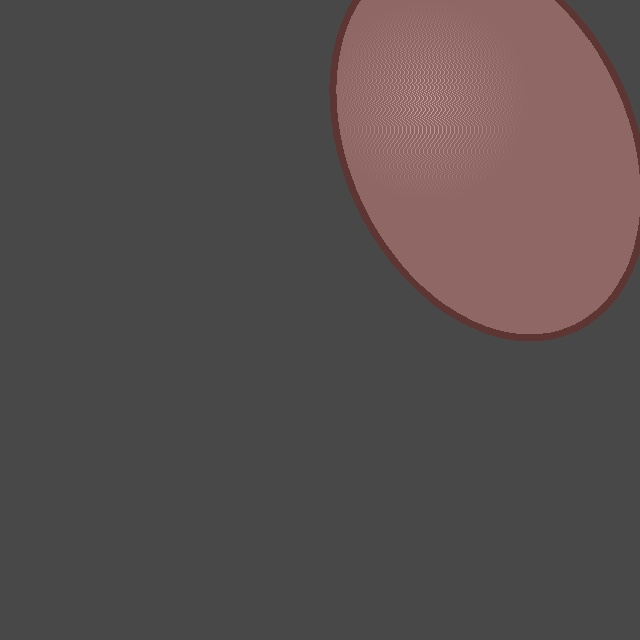lens: (333, 0, 640, 337)
